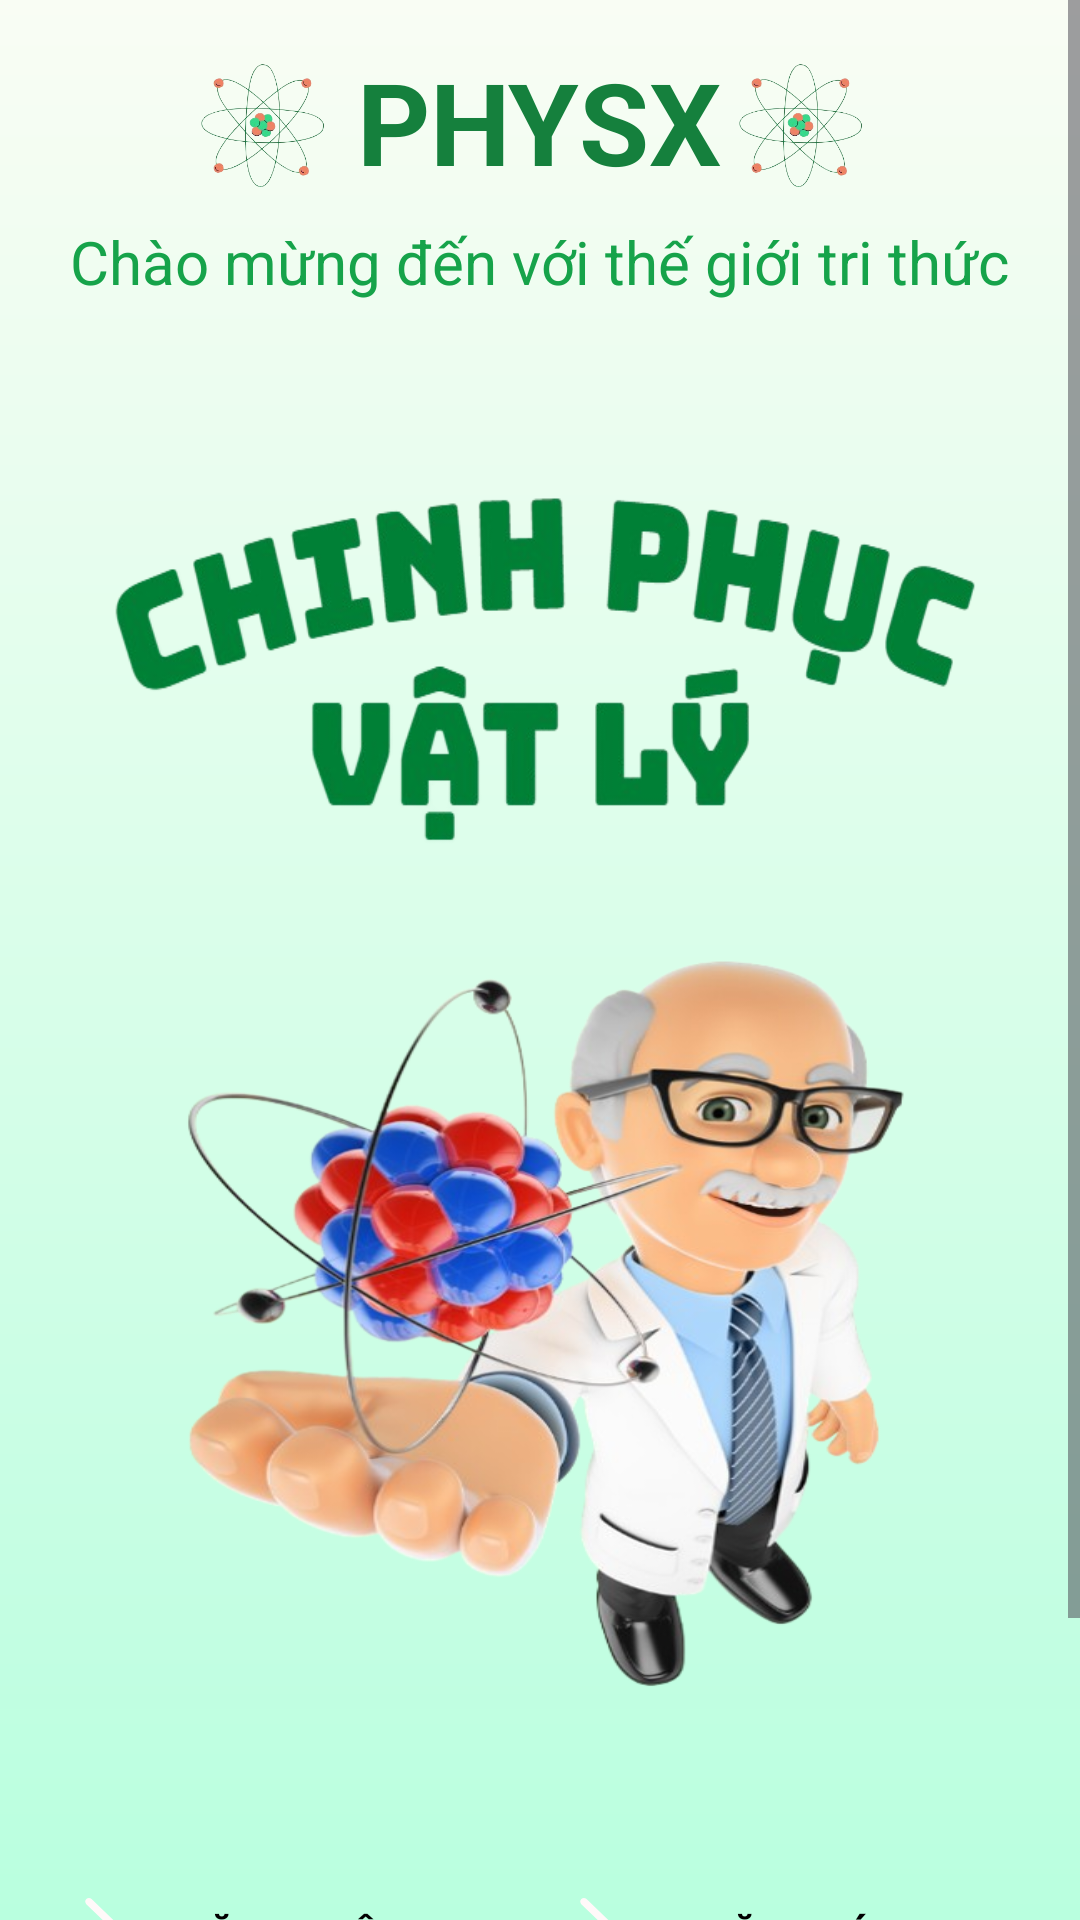

Icons on this 1080 × 1920 Android screen, each with the point to tap as point (x, y):
atom: point (262, 125), point (800, 125)
